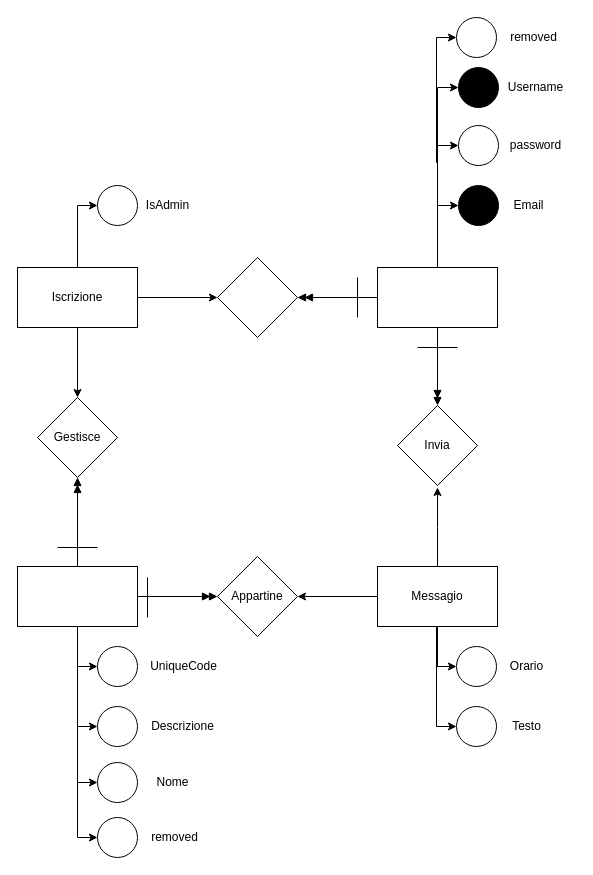
Image size: 593x875. Some labels were removed from this diagram. Here are the shapes that lost their labels. From the top down, the box of each, then its label:
(216, 256, 298, 338): Effetua
(376, 266, 498, 328): Utente
(16, 566, 138, 626): Room
